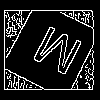M: (25, 24, 85, 86)
